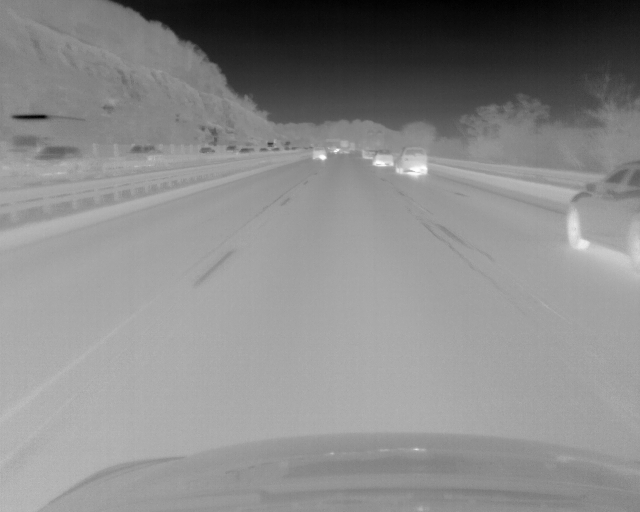car: (565, 158, 640, 274), (3, 115, 88, 170), (29, 145, 83, 171), (394, 147, 427, 175), (130, 145, 160, 155), (373, 150, 393, 165), (312, 146, 326, 160), (199, 147, 216, 154), (238, 147, 253, 154), (363, 148, 373, 158), (225, 145, 237, 153)
